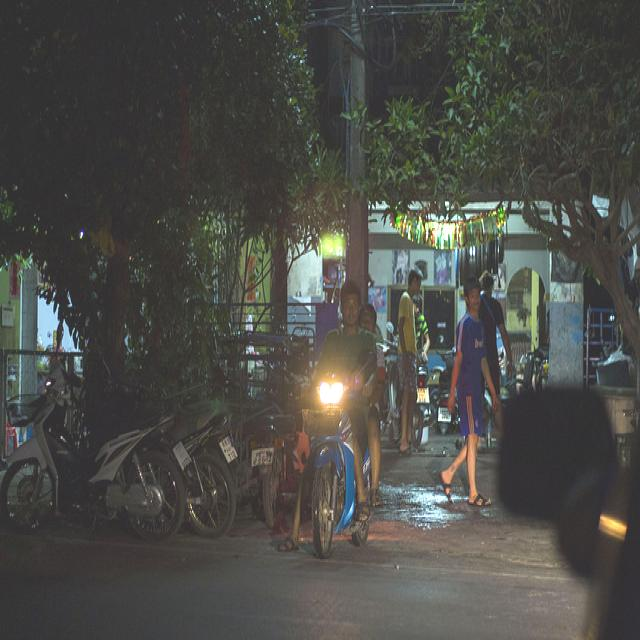Motorbike: (0, 366, 183, 550), (303, 370, 375, 559)
